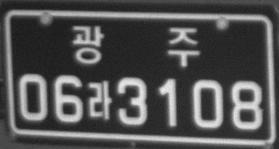0: (191, 78, 224, 129), (18, 71, 47, 122)
1: (154, 77, 185, 127)
3: (116, 74, 148, 126)
6: (53, 73, 84, 124)
8: (230, 79, 263, 130)
광주_D: (71, 24, 200, 68)
라: (87, 79, 112, 120)
